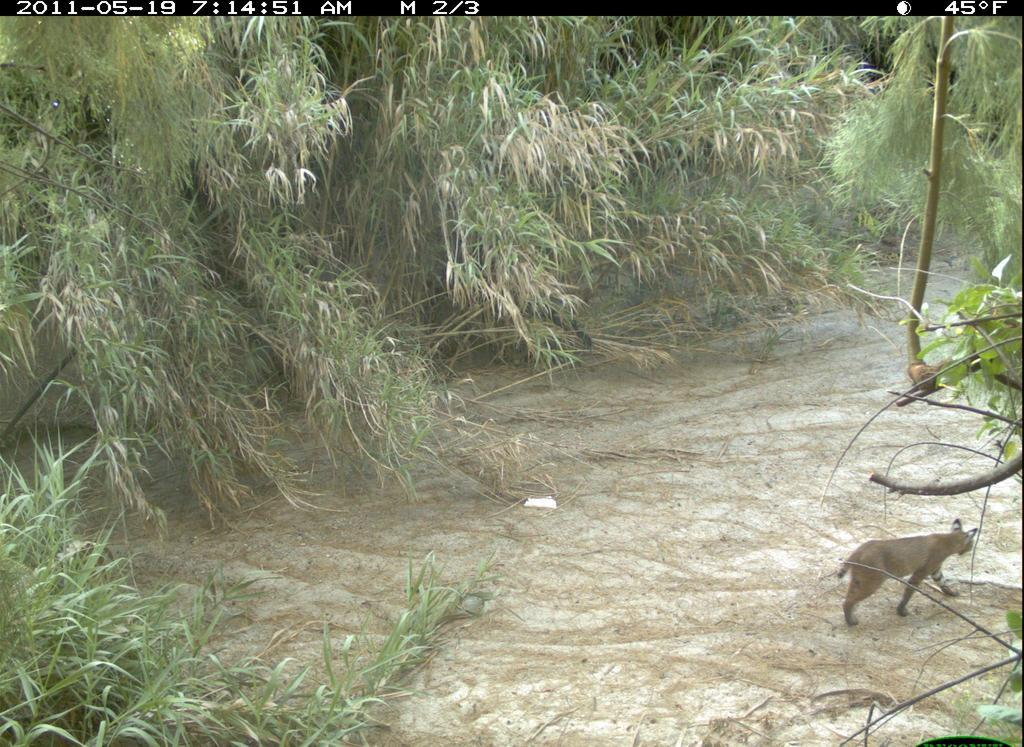bobcat: (835, 516, 977, 632)
